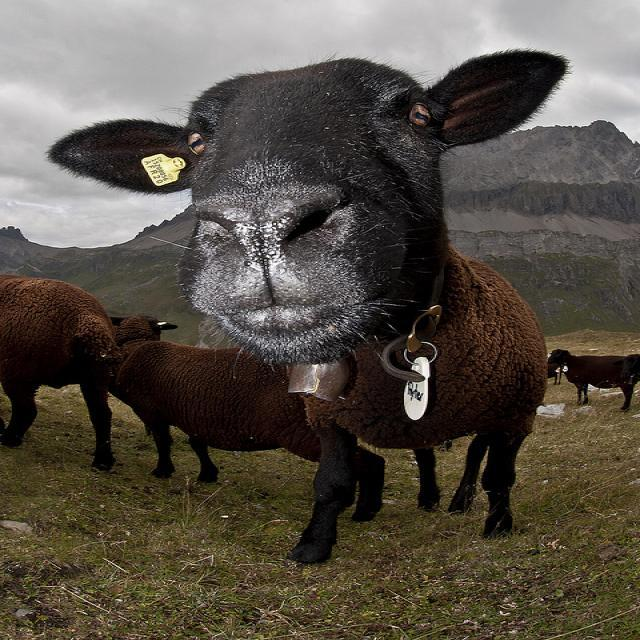cow: (545, 346, 635, 409)
